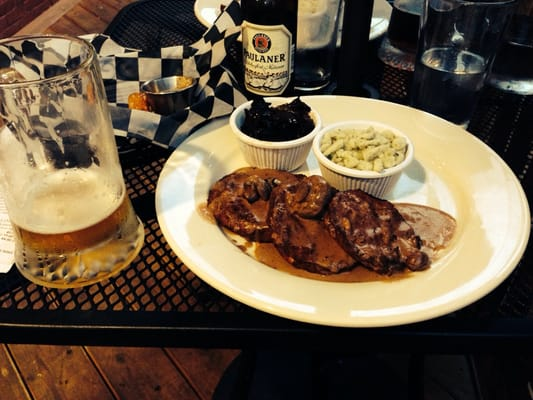pizza: (0, 35, 145, 288), (408, 0, 518, 124), (485, 10, 533, 95)
sushi: (312, 120, 415, 198)
